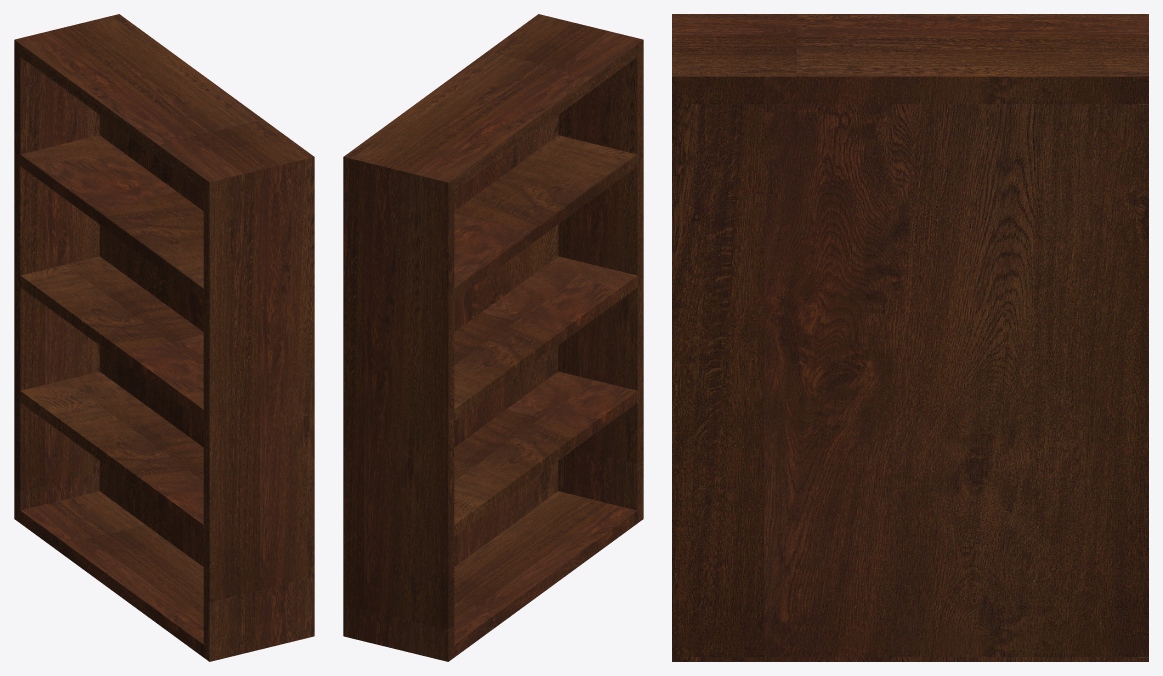
Rendered from Bookshelf.fbx.
3 views of the same model, side by side, from view 1: azimuth 30°, elevation 25°; view 2: azimuth 150°, elevation 25°; view 3: azimuth 270°, elevation 25° (orthographic). The views are drawn at different scales.
Visible parts, largest first — view 1: Cube; view 2: Cube; view 3: Cube.
Part boxes in pixels (x1,y1,x2,y2): Cube: (14, 14, 314, 661); Cube: (343, 14, 643, 661); Cube: (672, 14, 1148, 661).
Size of the model in its own units: 51.91 by 227 by 167.
